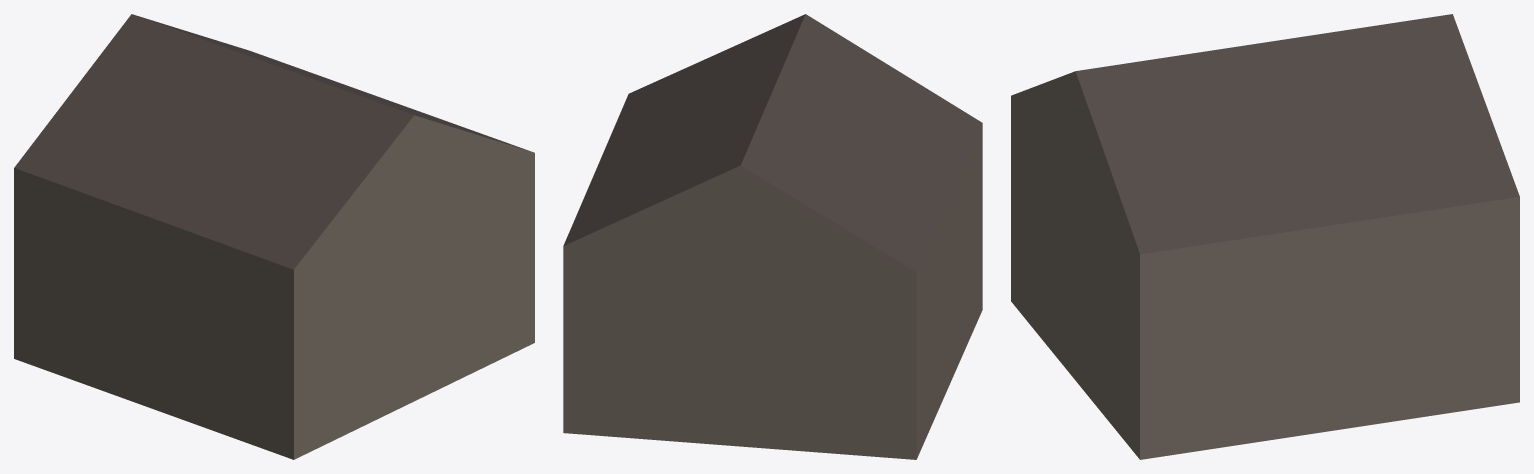
3 views of the same model, side by side, from view 1: azimuth 30°, elevation 25°; view 2: azimuth 150°, elevation 25°; view 3: azimuth 270°, elevation 25° (orthographic). The views are drawn at different scales.
Parts seen in each view (by area): view 1: HP-w1198840846; view 2: HP-w1198840846; view 3: HP-w1198840846.
Part boxes in pixels (bbox=[...]): HP-w1198840846: bbox=[14, 14, 534, 459]; HP-w1198840846: bbox=[563, 14, 982, 459]; HP-w1198840846: bbox=[1011, 14, 1519, 459].
Size of the model in its own units: 13.44 by 9.03 by 13.46.
